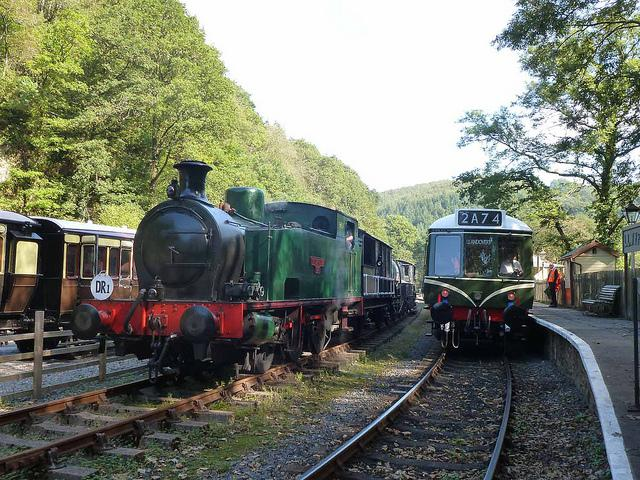Train: (70, 159, 420, 380), (2, 212, 138, 343), (424, 209, 535, 352)
